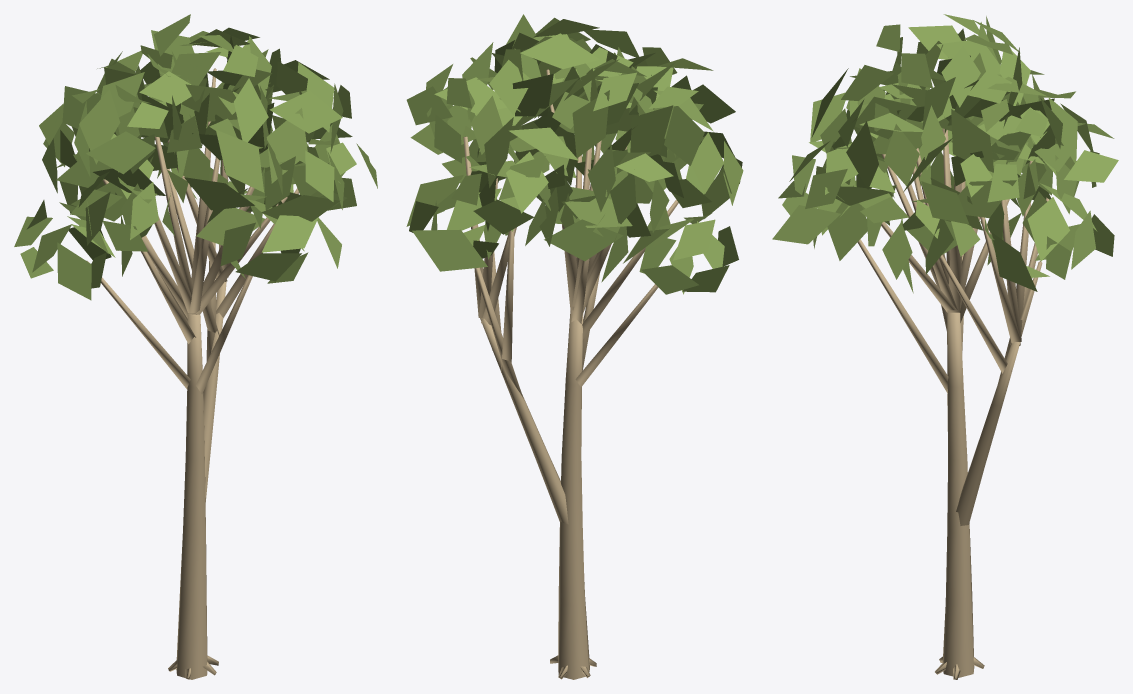
The model's file is birch-twin-lod2.glb.
3 renders of one model, left to right at view 1: azimuth 30°, elevation 25°; view 2: azimuth 150°, elevation 25°; view 3: azimuth 270°, elevation 25°, orthographic.
Visible parts, largest first — view 1: tree_birch-twin_LOD2; view 2: tree_birch-twin_LOD2; view 3: tree_birch-twin_LOD2.
Boxes of the visible parts, bbox=[...] form: tree_birch-twin_LOD2: bbox=[14, 14, 377, 679]; tree_birch-twin_LOD2: bbox=[406, 14, 743, 679]; tree_birch-twin_LOD2: bbox=[772, 14, 1118, 679].
Size of the model in its own units: 6.34 by 11.95 by 5.88.
